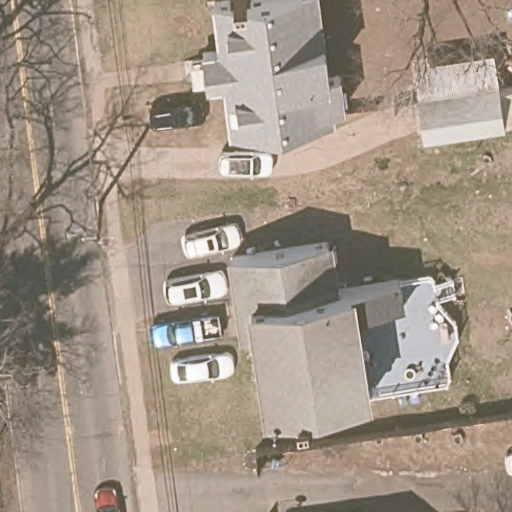DT: (81, 198, 114, 247)
